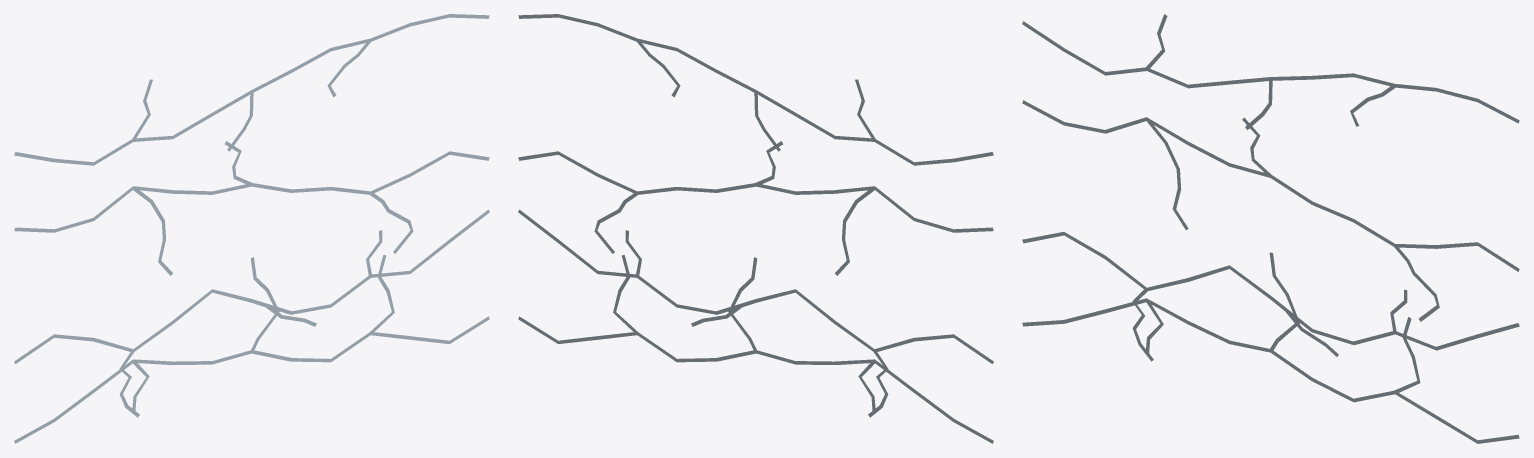
The model's file is 2057_GroundRupture_RuptureInnerLight.fbx.
The picture shows the model from 3 angles, left to right: view 1: azimuth 30°, elevation 25°; view 2: azimuth 150°, elevation 25°; view 3: azimuth 330°, elevation 25°; orthographic projection. The views are drawn at different scales.
Visible parts, largest first — view 1: PART_RuptureInnerAmber4, PART_RuptureInnerAmber0, PART_RuptureInnerAmber12, PART_RuptureInnerAmber8; view 2: PART_RuptureInnerAmber4, PART_RuptureInnerAmber0, PART_RuptureInnerAmber12, PART_RuptureInnerAmber8; view 3: PART_RuptureInnerAmber4, PART_RuptureInnerAmber0, PART_RuptureInnerAmber12, PART_RuptureInnerAmber8.
Part boxes in pixels (<box>): PART_RuptureInnerAmber4: <box>14,209,489,363</box>; PART_RuptureInnerAmber0: <box>14,316,489,443</box>; PART_RuptureInnerAmber12: <box>14,14,489,165</box>; PART_RuptureInnerAmber8: <box>14,151,489,232</box>; PART_RuptureInnerAmber4: <box>518,209,993,363</box>; PART_RuptureInnerAmber0: <box>518,316,993,443</box>; PART_RuptureInnerAmber12: <box>518,14,993,165</box>; PART_RuptureInnerAmber8: <box>518,151,993,232</box>; PART_RuptureInnerAmber4: <box>1022,232,1519,350</box>; PART_RuptureInnerAmber0: <box>1022,298,1519,443</box>; PART_RuptureInnerAmber12: <box>1022,21,1519,123</box>; PART_RuptureInnerAmber8: <box>1022,100,1519,271</box>.
Size of the model in its own units: 650 by 441 by 7.18e-05.
